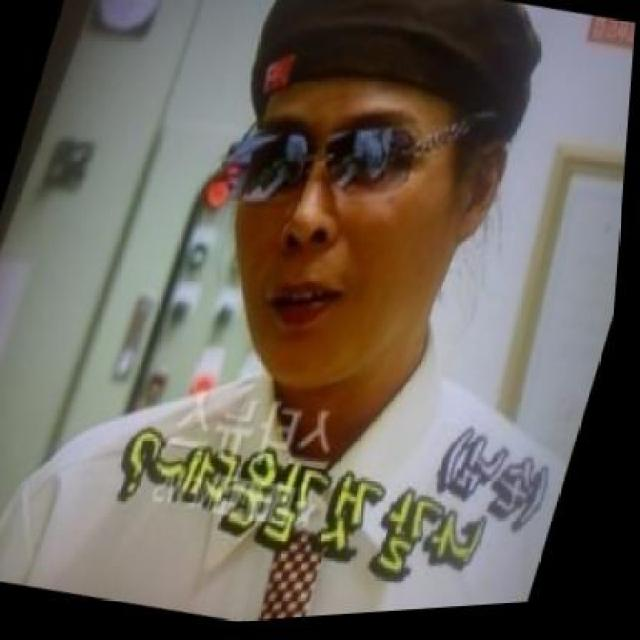hat: (225, 0, 560, 197)
